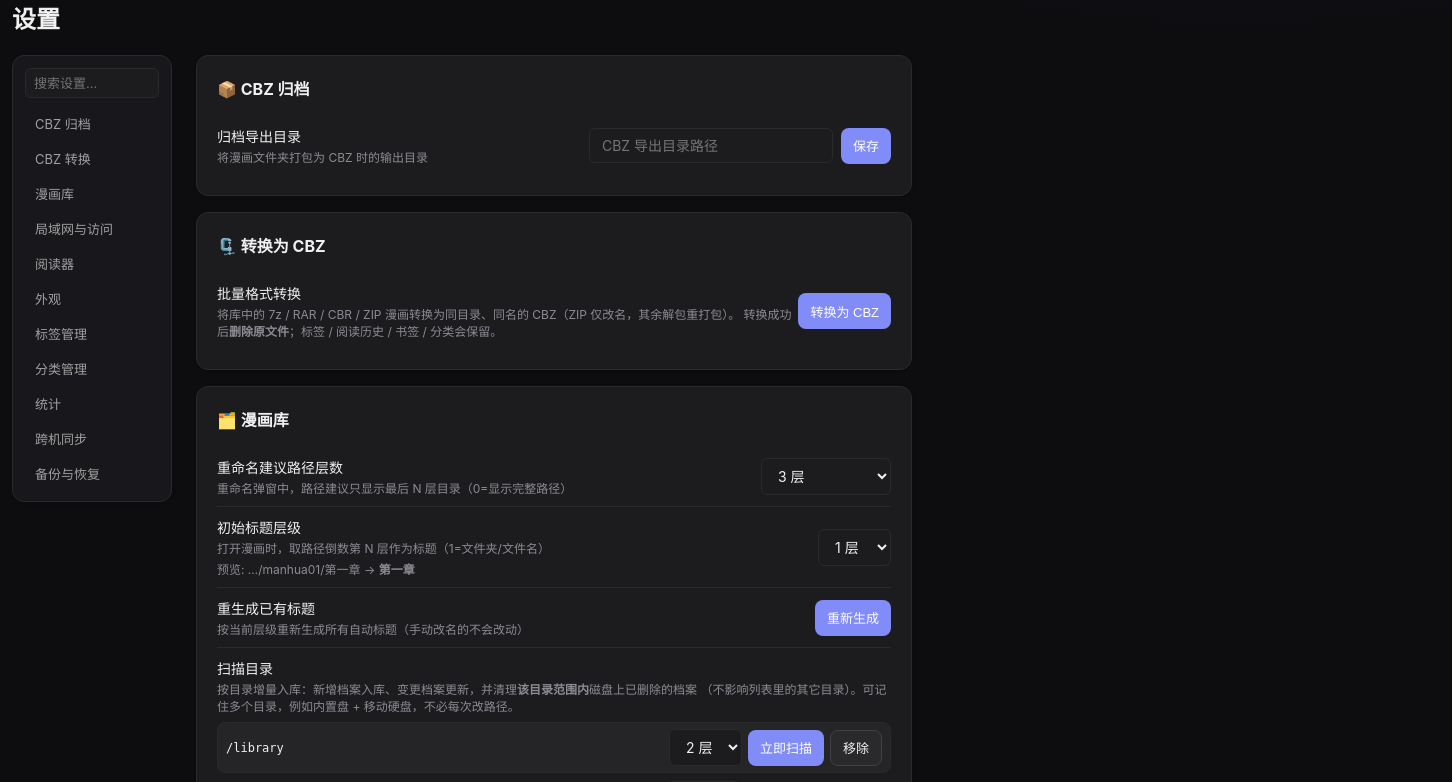
Scenario: Settings 分区与搜索 › 搜索设置项：只留下命中的行，整节无命中就隐藏整节（连导航项一起）
In the field named "搜索设置项": (92, 83) [25,68,159,98], type "口令"
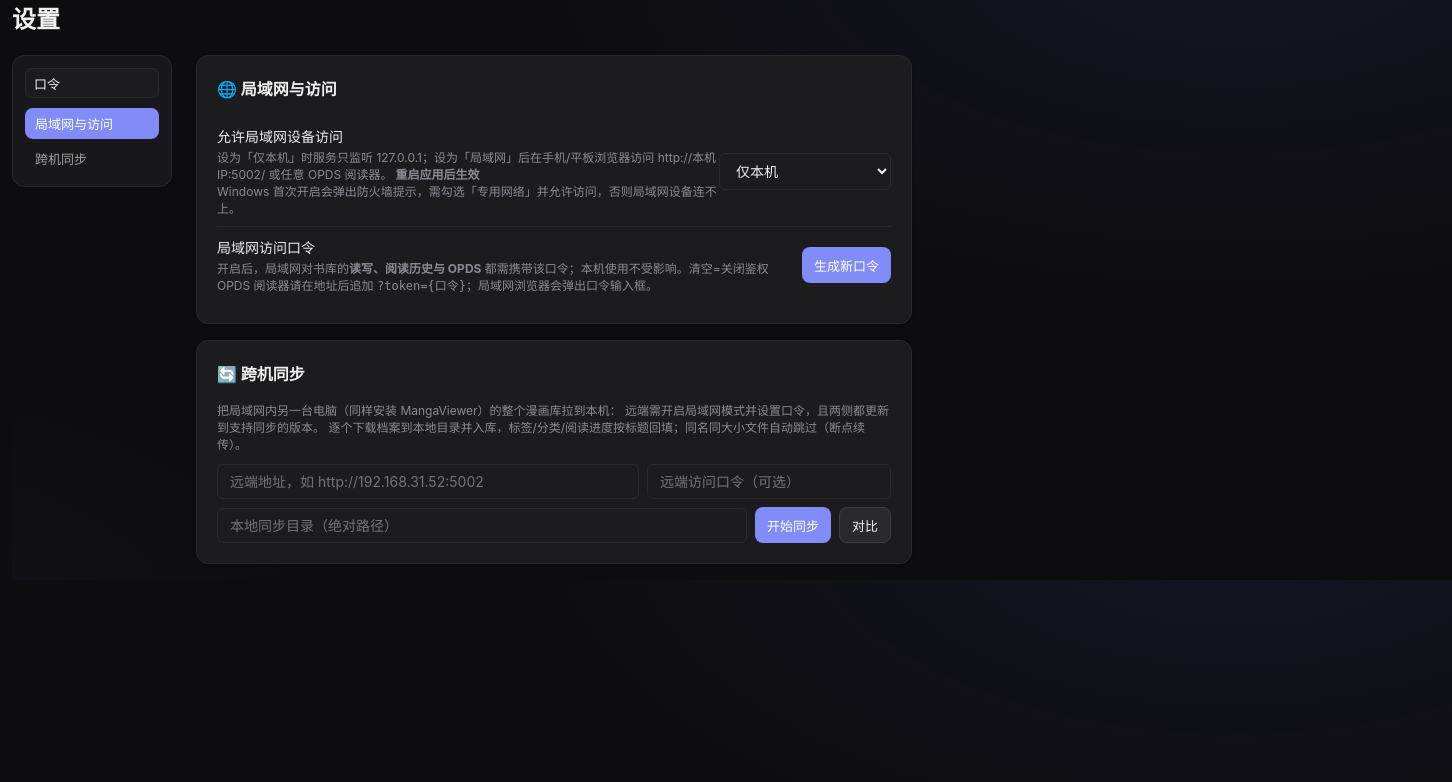
Now the element with class "settings-filtered-out" is shown, box [217,116,891,227]
